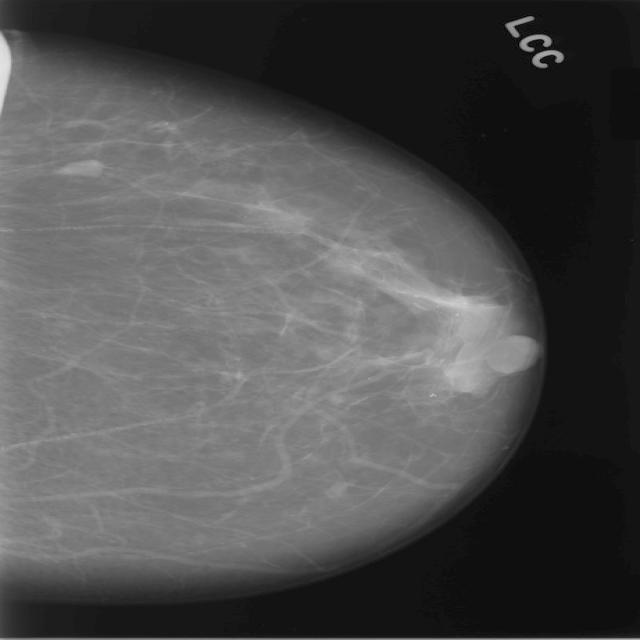tumour: (51, 158, 103, 177)
